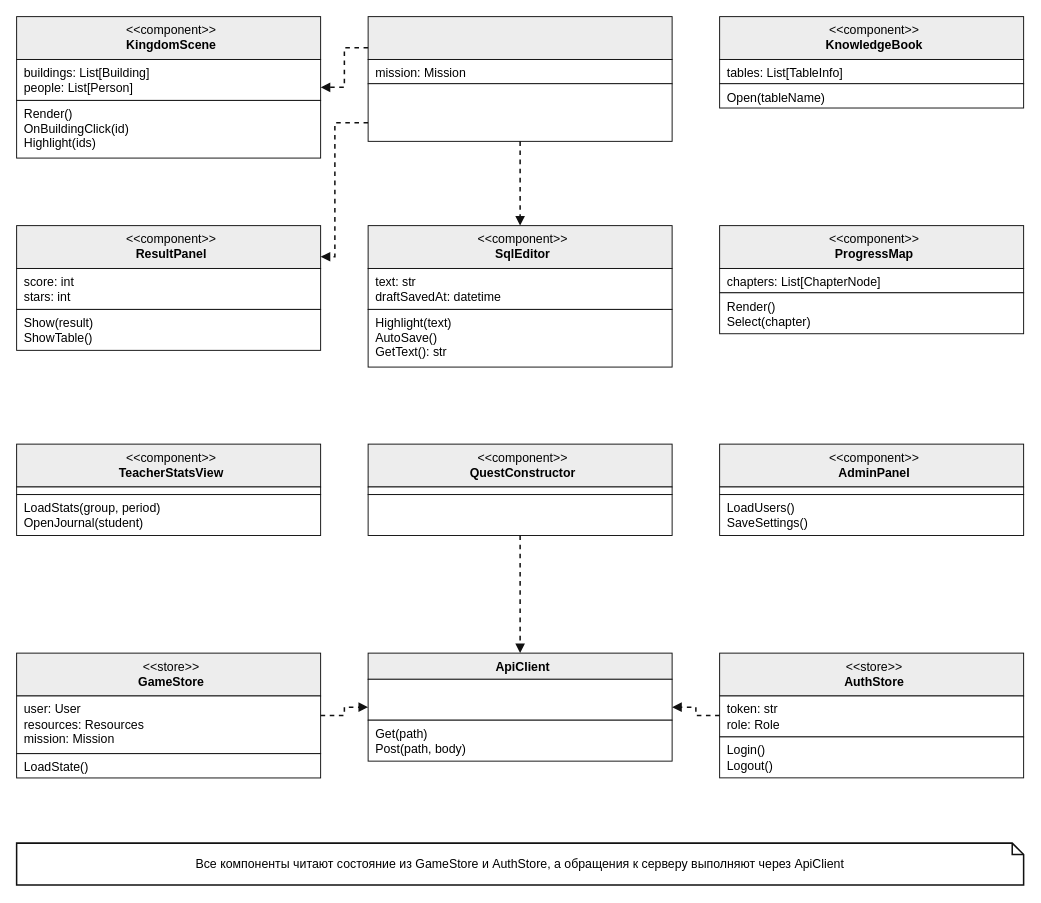
Some shapes in this 1041 by 903 pixel diagram are drawn without their labels. Here are the shapes that lost their labels. From the top down, the centre of each, then its label:
(519,37): <<component>> MissionScreen
(519,112): Open(missionId) Submit() ShowResult(result)
(519,515): CheckReference(sql) Save()
(519,699): baseUrl: str token: str
